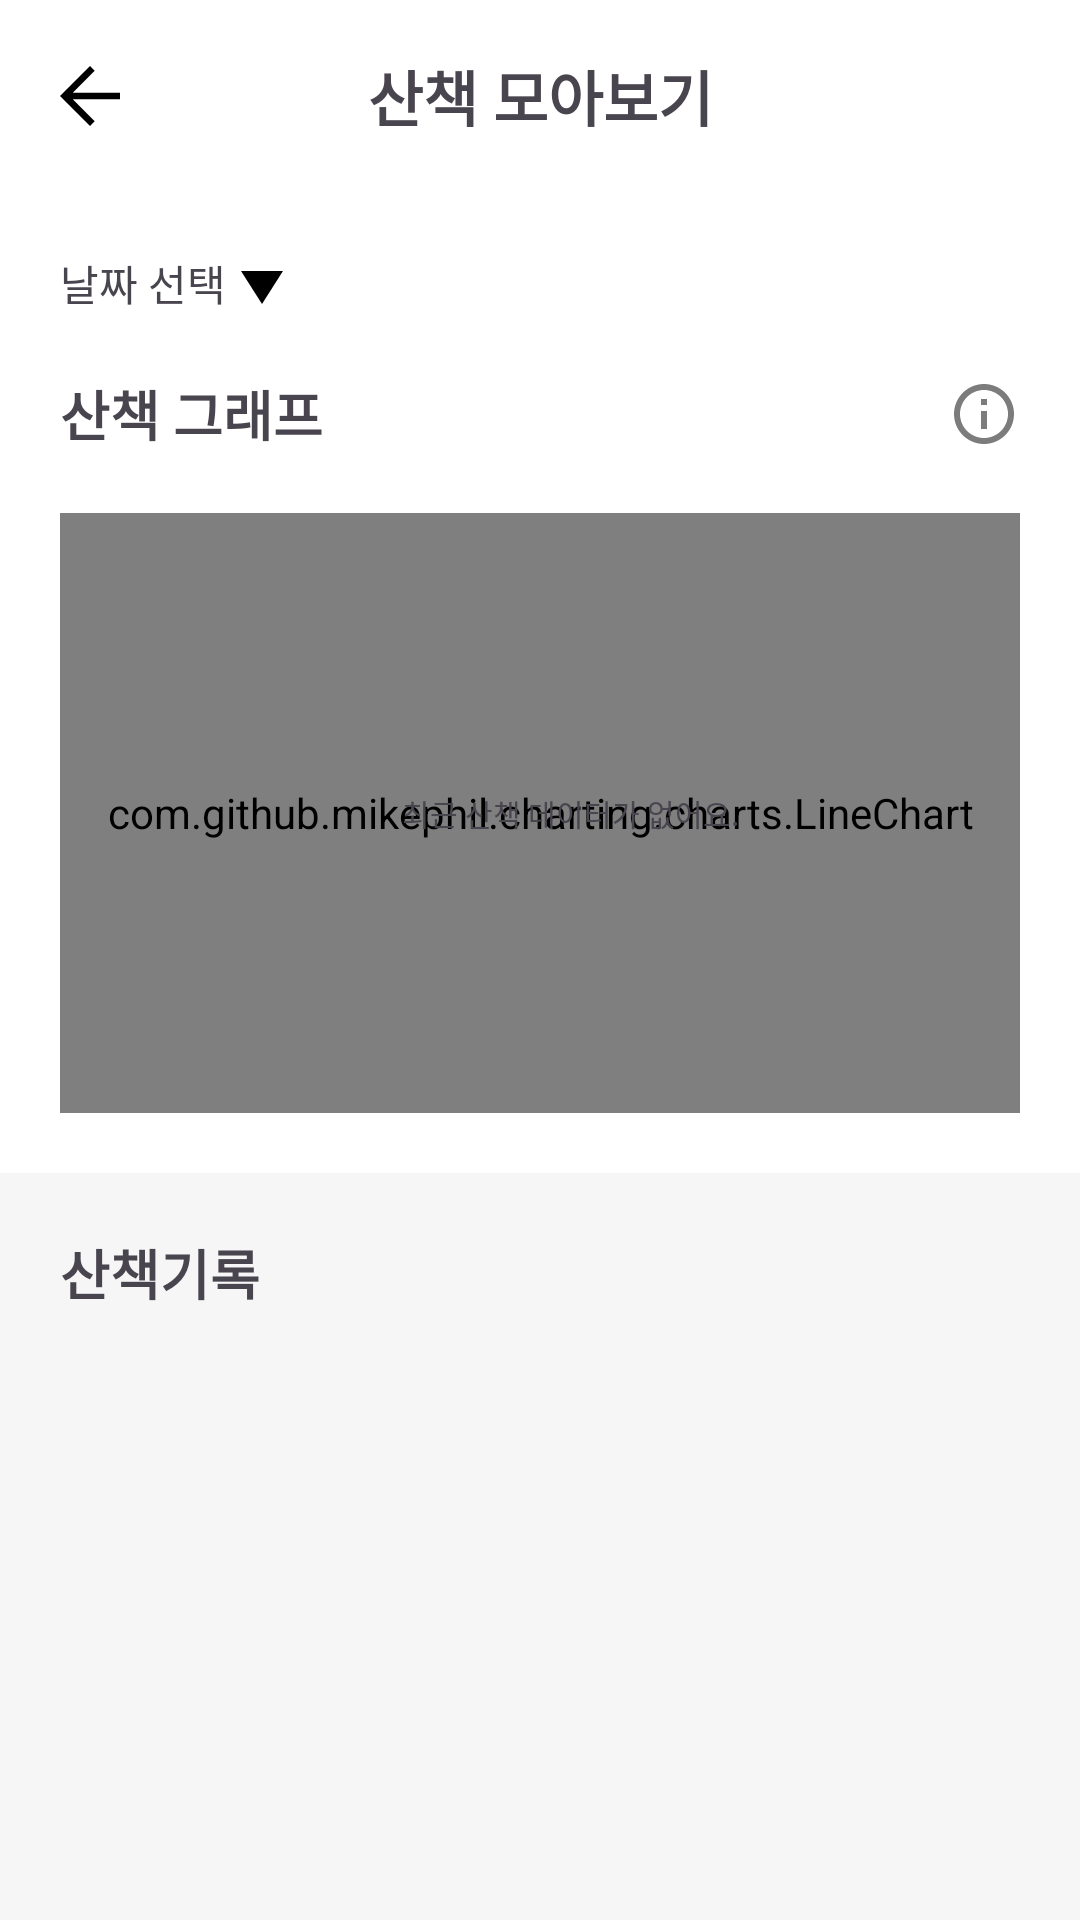

Icon click points for this 1080w x 1920h phone screenshot, format point (x, y):
back: point (90, 96)
information: point (984, 414)
